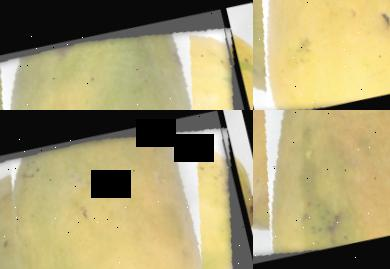PartiallyRipe: (0, 110, 253, 269), (0, 3, 253, 110), (253, 0, 390, 110)
Ripe: (253, 110, 390, 269)
